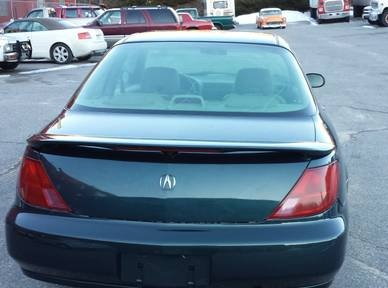acura: (8, 23, 355, 287)
